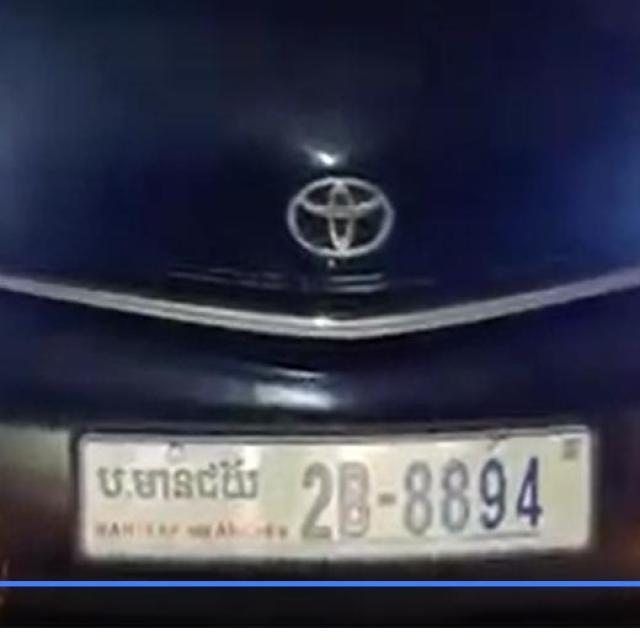Banteay_Meanchey: (96, 458, 258, 502)
